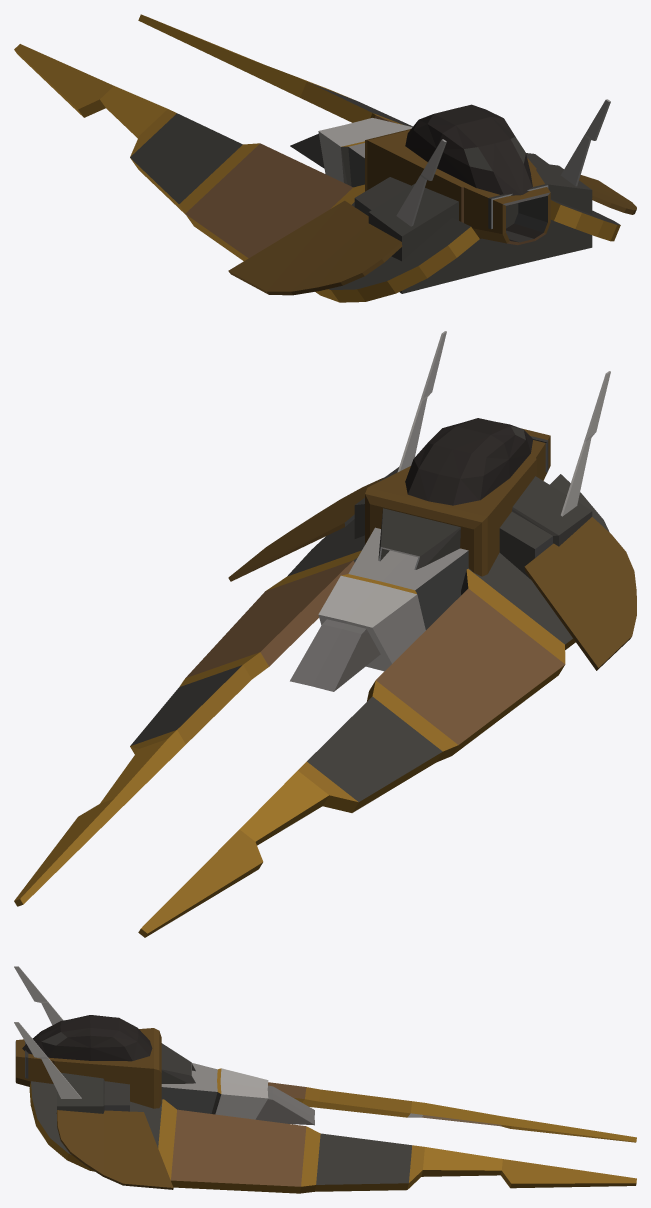
Rendered from dispatcher.glb.
3 renders of one model, top to bottom at view 1: azimuth 30°, elevation 25°; view 2: azimuth 150°, elevation 25°; view 3: azimuth 270°, elevation 25°, orthographic. The views are drawn at different scales.
Size of the model in its own units: 2.45 by 1.54 by 5.13.
